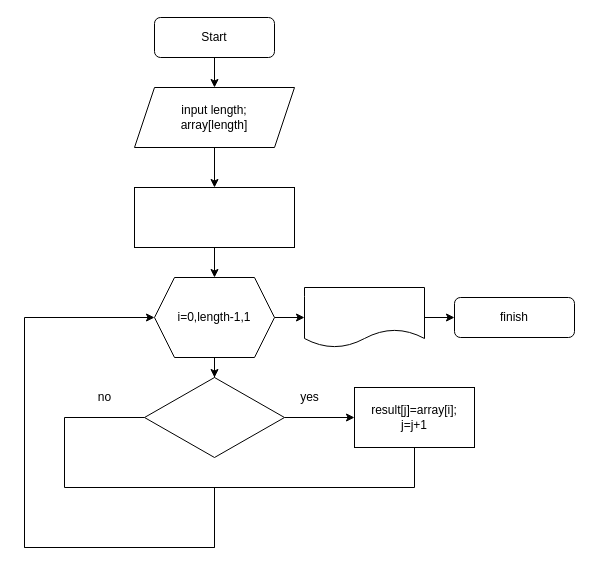
Some shapes in this 592 by 573 pixel diagram are drawn without their labels. The shapes that lost their labels are listed below. From the top down, each one's box as (x1, y1, x2, y2) in pixels, then its label:
(134, 186, 294, 248): j=0; string[] result=new string[length]
(304, 286, 424, 348): print (result)
(144, 376, 284, 458): array[i].Length<3
